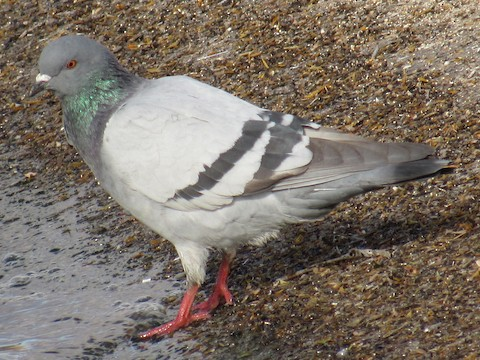pigeon: (24, 30, 462, 342)
